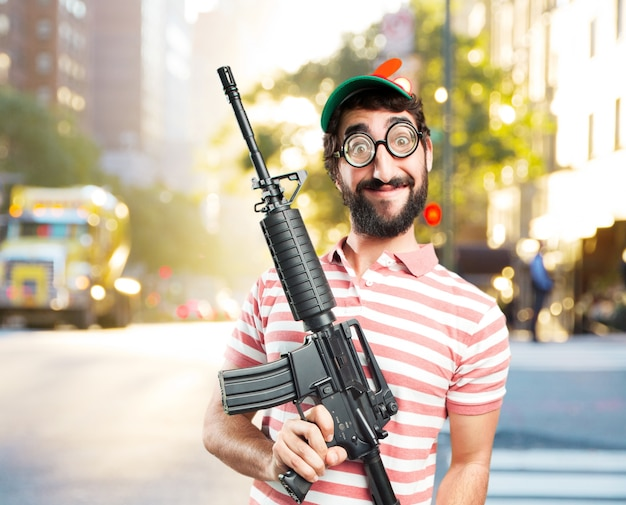gun: (218, 64, 402, 503)
